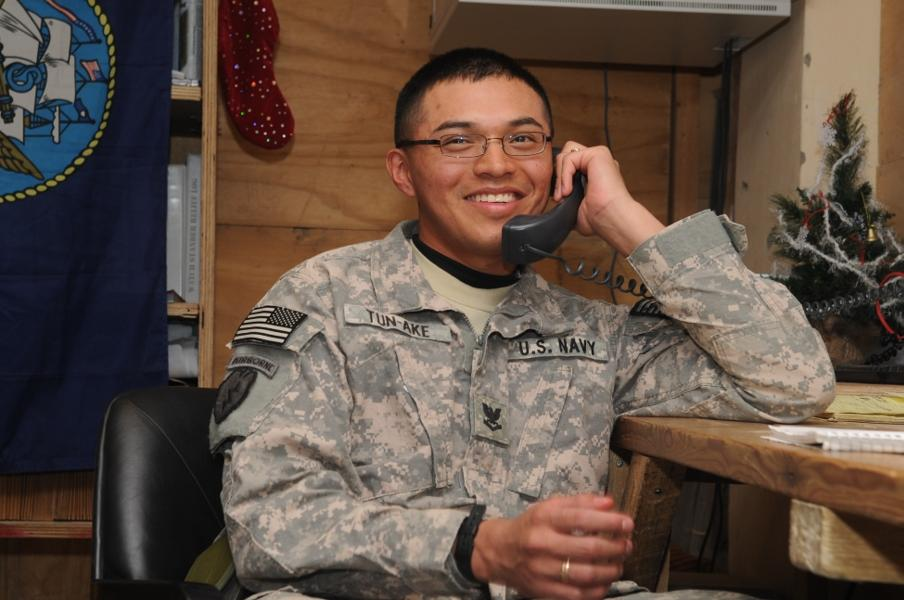person: (214, 47, 836, 600)
